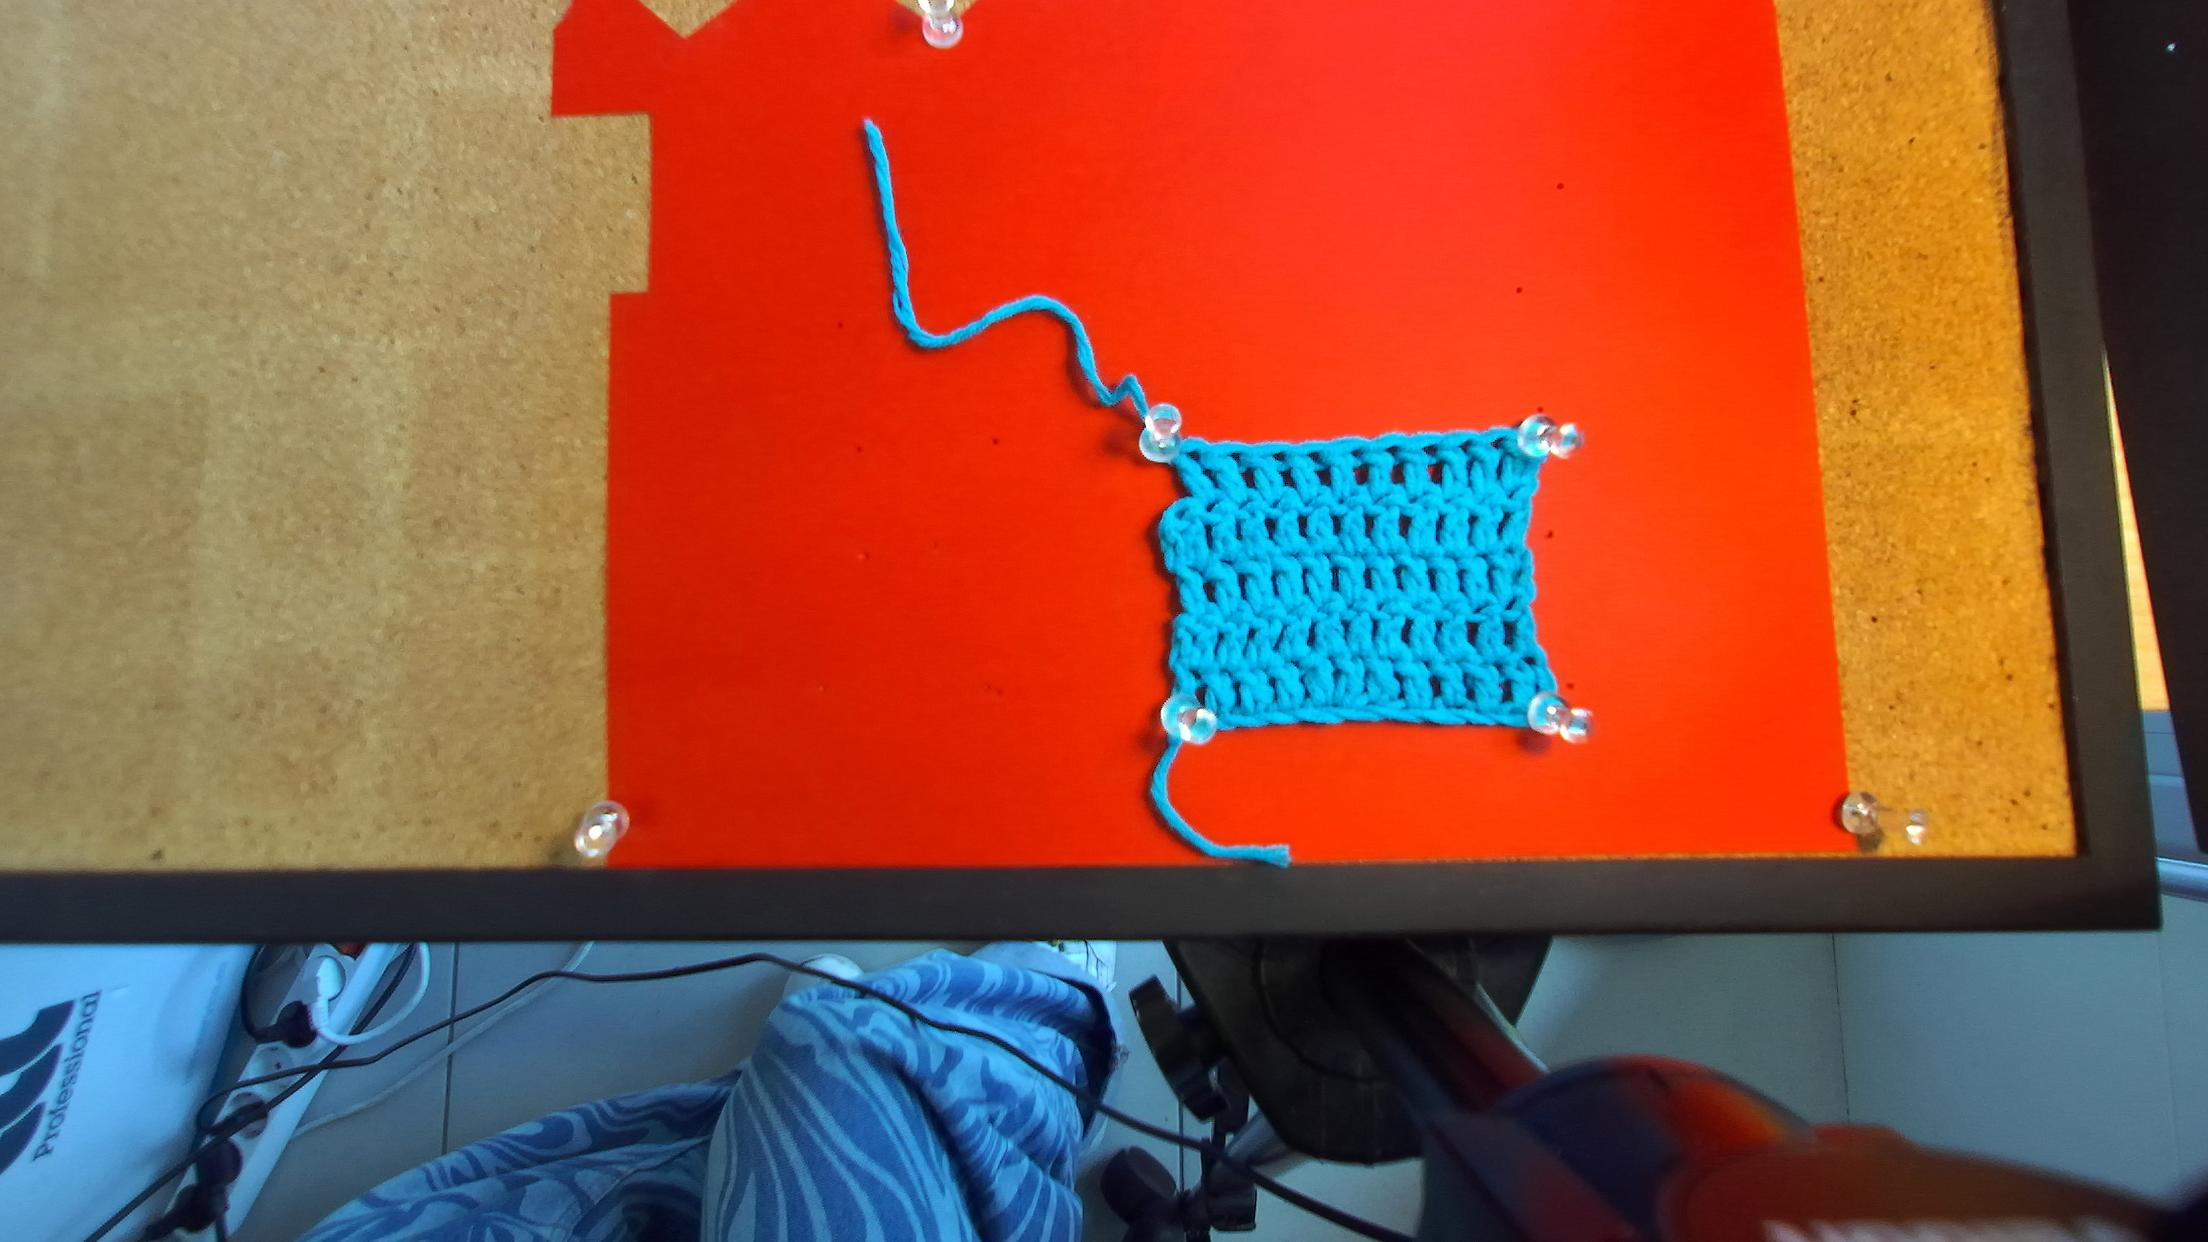hole: (1382, 445, 1402, 458), (1488, 436, 1506, 450), (1456, 439, 1472, 453), (1225, 452, 1242, 465), (1270, 450, 1287, 463), (1420, 444, 1438, 456), (1185, 449, 1200, 463), (1346, 447, 1364, 458), (1306, 451, 1321, 462)
swatch: (1140, 420, 1584, 748)
